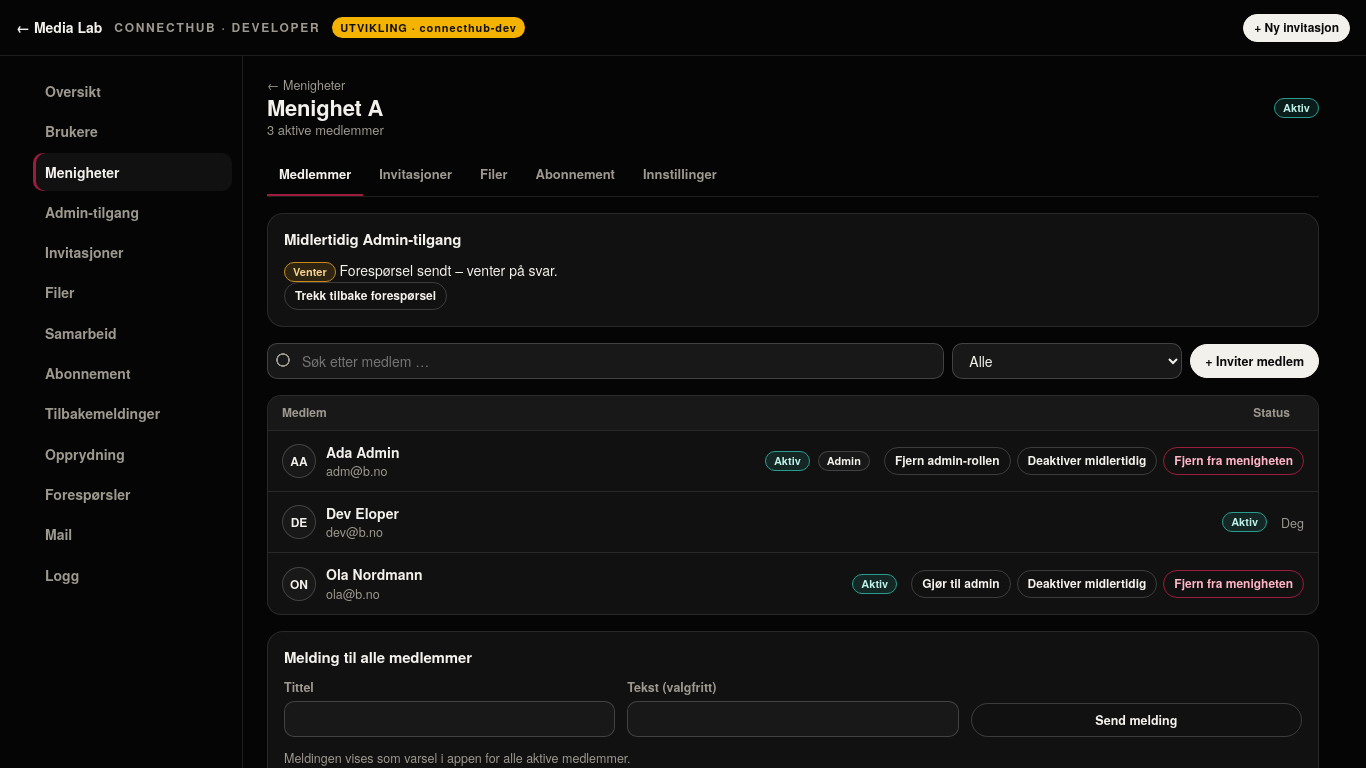
Test case: Egen seksjon «Admin-tilgang» og tilbaketrekking › Developer: «Trekk tilbake forespørsel» mens den venter; status blir «Trukket tilbake»
The image size is (1366, 768).
Click the button "Trekk tilbake forespørsel": (366, 296) [284,282,447,310]
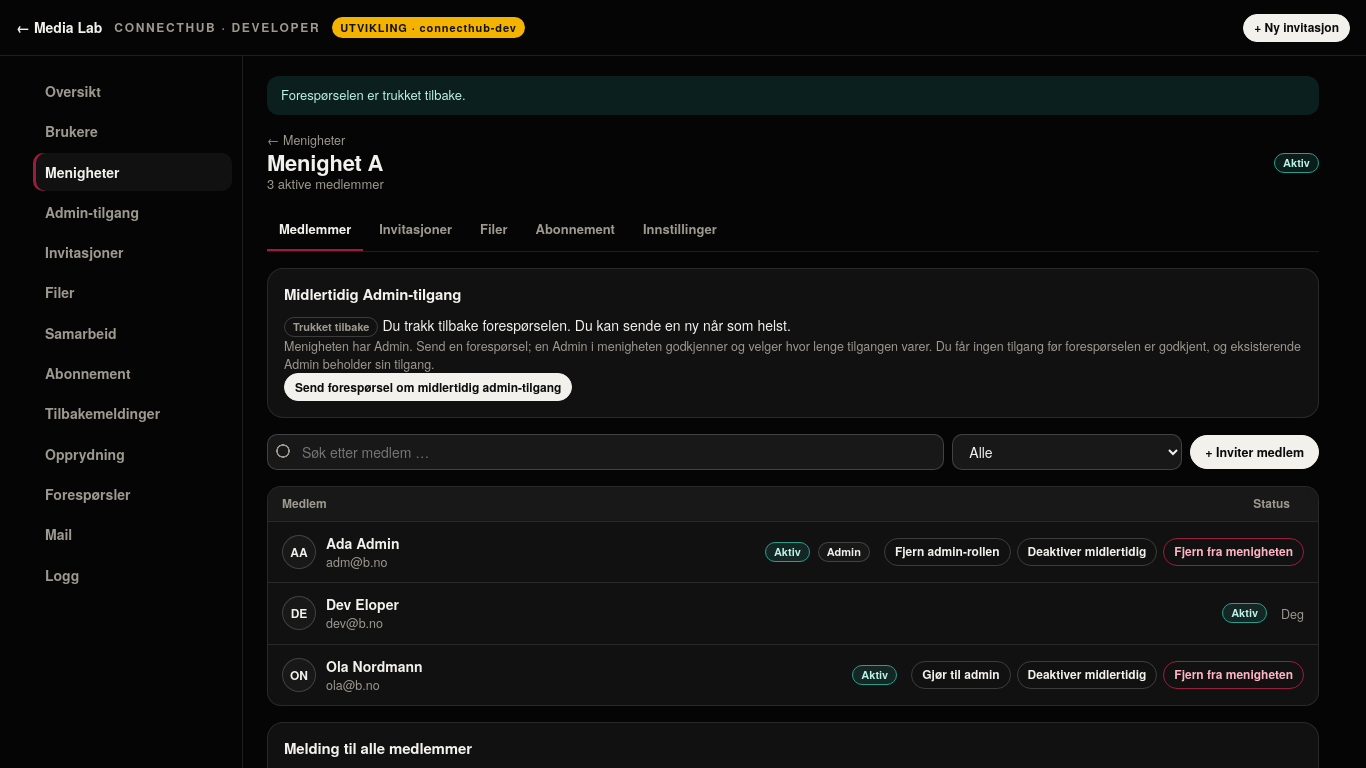
Expected: the text "Du trakk tilbake forespørselen" is shown, [382,315,791,335]
Expected: the button "Trekk tilbake forespørsel" is gone
Expected: the button "Send forespørsel om midlertidig admin-tilgang" is shown, [284,373,572,401]
